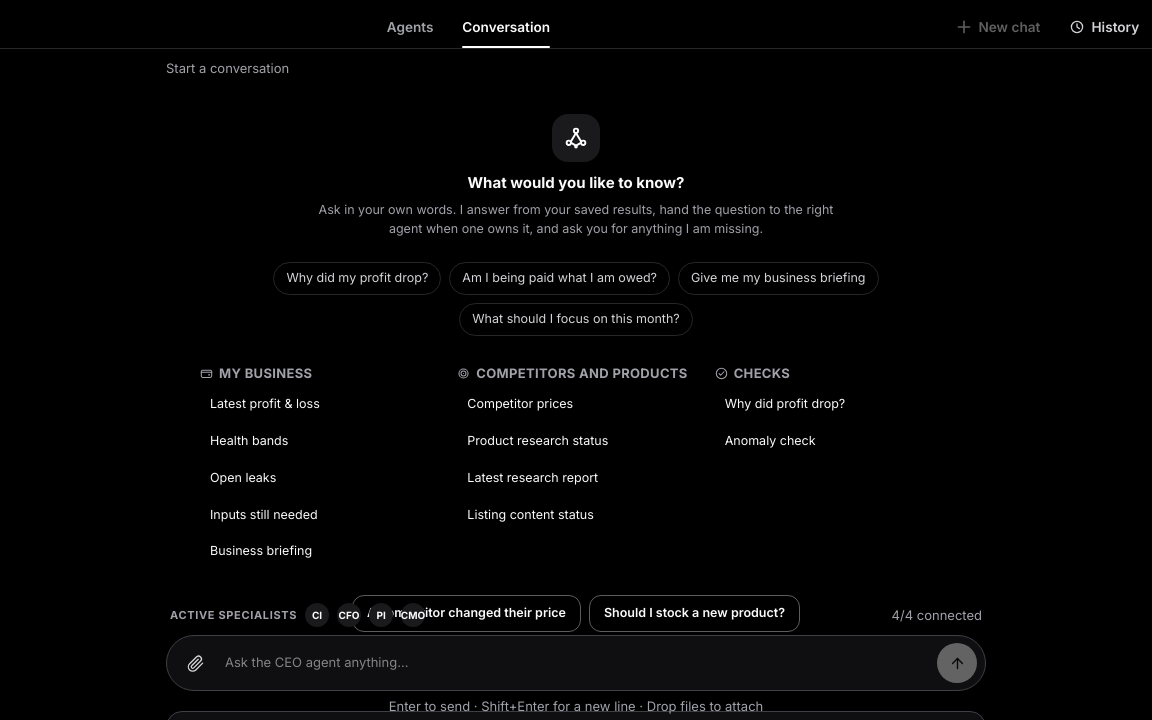
Scenario: empty and new states › shows an honest empty state with nothing fabricated
Step 1. Click the button with test id "open-drawer" → point(1104, 27), box x1=1056 y1=8 x2=1151 y2=46
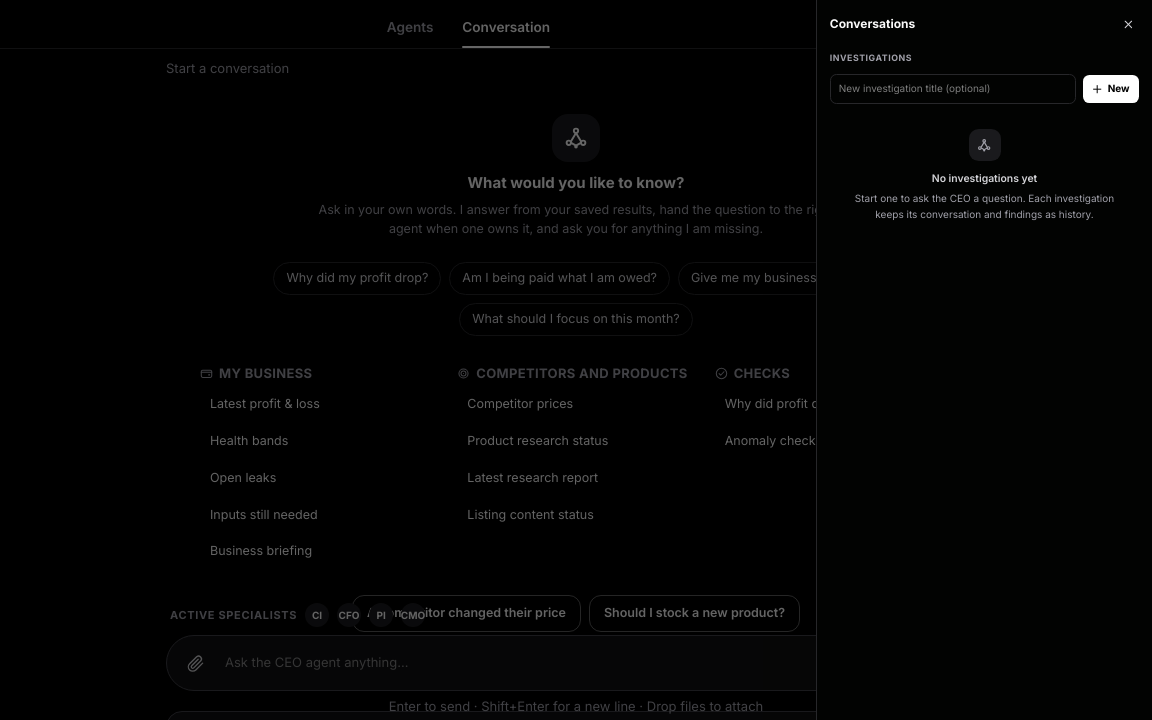
Expected: the element with test id "welcome" is shown, x1=196 y1=90 x2=956 y2=699
Expected: the text "No investigations yet" is shown, x1=932 y1=171 x2=1037 y2=186
